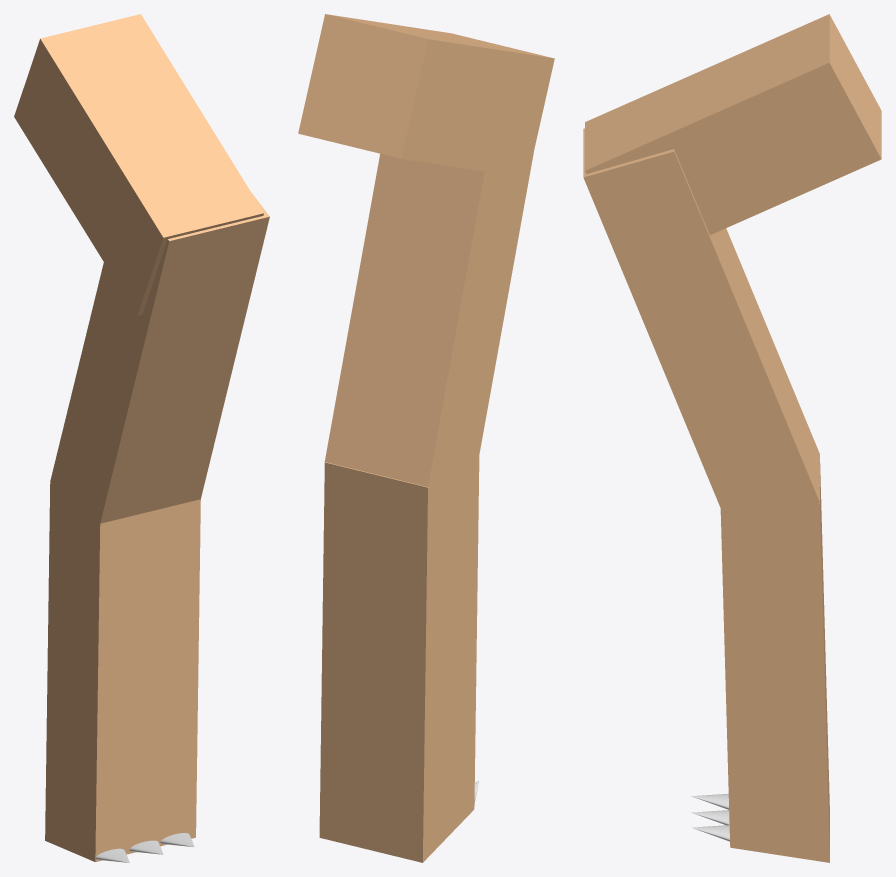
File: O&HlegR.FBX
The picture shows the model from 3 angles, left to right: view 1: azimuth 30°, elevation 25°; view 2: azimuth 150°, elevation 25°; view 3: azimuth 270°, elevation 25°; orthographic projection. The views are drawn at different scales.
Visible parts, largest first — view 1: Asi004, Asi003, legRight; view 2: Asi004, Asi003, legRight; view 3: Asi003, legRight, Asi004.
Part boxes in pixels (<box>): Asi004: <box>45,482,200,861</box>; Asi003: <box>50,193,269,523</box>; legRight: <box>14,14,263,315</box>; Asi004: <box>319,434,479,862</box>; Asi003: <box>324,152,533,486</box>; legRight: <box>298,14,554,178</box>; Asi003: <box>583,128,819,528</box>; legRight: <box>585,14,881,234</box>; Asi004: <box>720,463,829,862</box>.
Bounding box in the file's own units: 0.3318 × 2.41 × 0.8161.
Materials: 1 (1 with a texture image).
